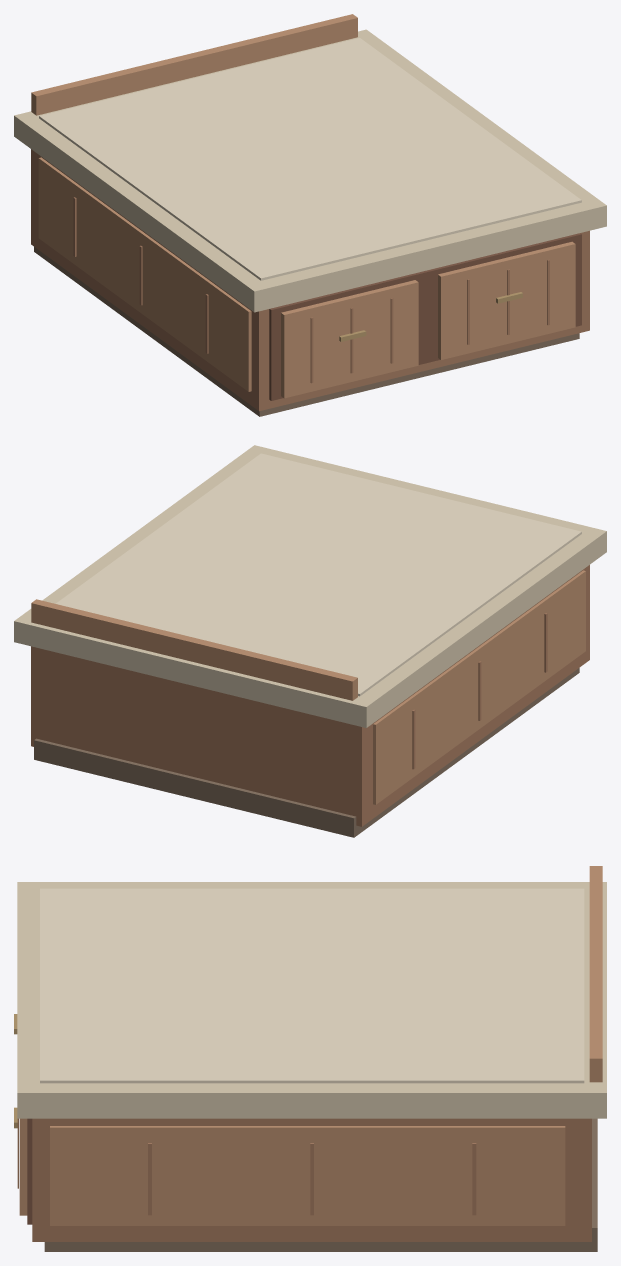
Rendered from park_cafe_counter_unit.glb.
3 views of the same model, one above another, from view 1: azimuth 30°, elevation 25°; view 2: azimuth 150°, elevation 25°; view 3: azimuth 270°, elevation 25° (orthographic). The views are drawn at different scales.
Parts seen in each view (by area): view 1: quiet_worktop_field, thick_bullnose_stone_top, L_side_panel_inset, L_rounded_door, R_rounded_door, solid_oak_carcass, rear_oak_backstop, front_shadow_reveal, recessed_toe_plinth; view 2: quiet_worktop_field, solid_oak_carcass, thick_bullnose_stone_top, L_side_panel_inset, recessed_toe_plinth, rear_oak_backstop; view 3: quiet_worktop_field, R_side_panel_inset, thick_bullnose_stone_top, solid_oak_carcass, recessed_toe_plinth, rear_oak_backstop, R_rounded_door, front_shadow_reveal.
Boxes of the visible parts, box(x1,y1,x2,y2) form: quiet_worktop_field: box(39, 38, 581, 280); thick_bullnose_stone_top: box(14, 29, 606, 312); L_side_panel_inset: box(38, 157, 251, 391); L_rounded_door: box(281, 280, 418, 398); R_rounded_door: box(438, 241, 575, 359); solid_oak_carcass: box(31, 149, 589, 411); rear_oak_backstop: box(31, 14, 357, 115); front_shadow_reveal: box(269, 233, 581, 400); recessed_toe_plinth: box(34, 247, 579, 416); quiet_worktop_field: box(56, 453, 581, 696); solid_oak_carcass: box(31, 565, 589, 826); thick_bullnose_stone_top: box(14, 445, 606, 727); L_side_panel_inset: box(373, 570, 585, 804); recessed_toe_plinth: box(34, 668, 579, 837); rear_oak_backstop: box(31, 599, 357, 700); quiet_worktop_field: box(40, 888, 584, 1083); R_side_panel_inset: box(50, 1126, 565, 1225); thick_bullnose_stone_top: box(17, 882, 606, 1118); solid_oak_carcass: box(32, 1118, 591, 1241); recessed_toe_plinth: box(44, 1118, 597, 1251); rear_oak_backstop: box(589, 866, 602, 1082); R_rounded_door: box(19, 1118, 27, 1215); front_shadow_reveal: box(27, 1118, 32, 1224).
Bounding box in the file's own units: 2.25 × 0.9625 × 2.67.
